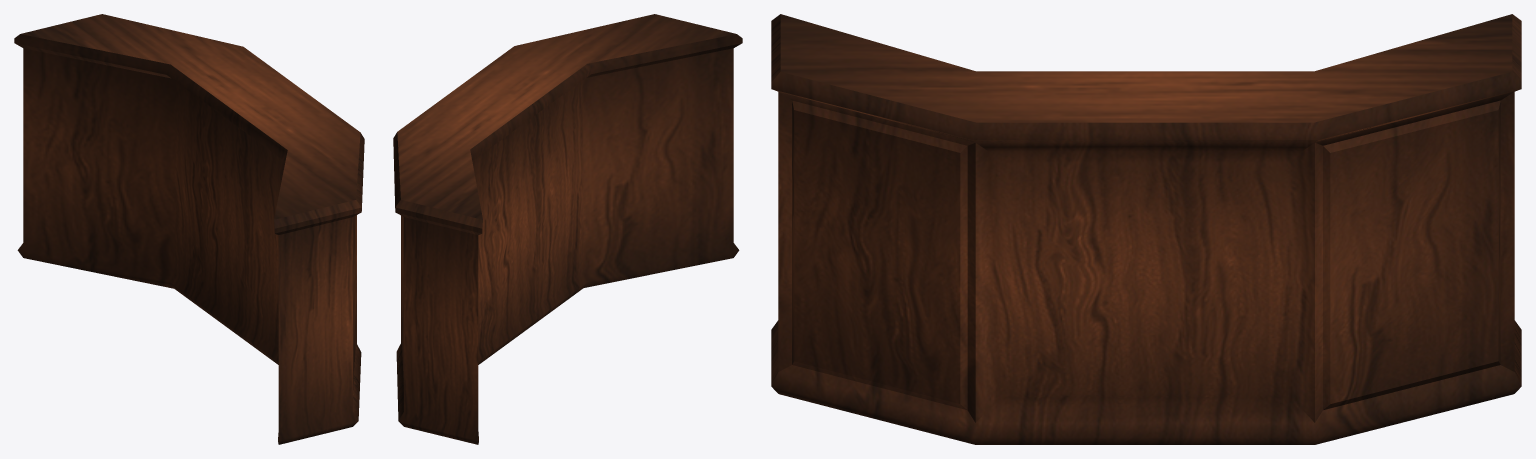
The model's file is BarIslandFBX.fbx.
3 views of the same model, side by side, from view 1: azimuth 30°, elevation 25°; view 2: azimuth 150°, elevation 25°; view 3: azimuth 270°, elevation 25° (orthographic). The views are drawn at different scales.
Visible parts, largest first — view 1: BarIsland; view 2: BarIsland; view 3: BarIsland.
Boxes of the visible parts, x1=… form: BarIsland: x1=14, y1=14, x2=364, y2=444; BarIsland: x1=393, y1=14, x2=742, y2=444; BarIsland: x1=771, y1=14, x2=1521, y2=444.
Size of the model in its own units: 3.97 by 5.36 by 11.22.
